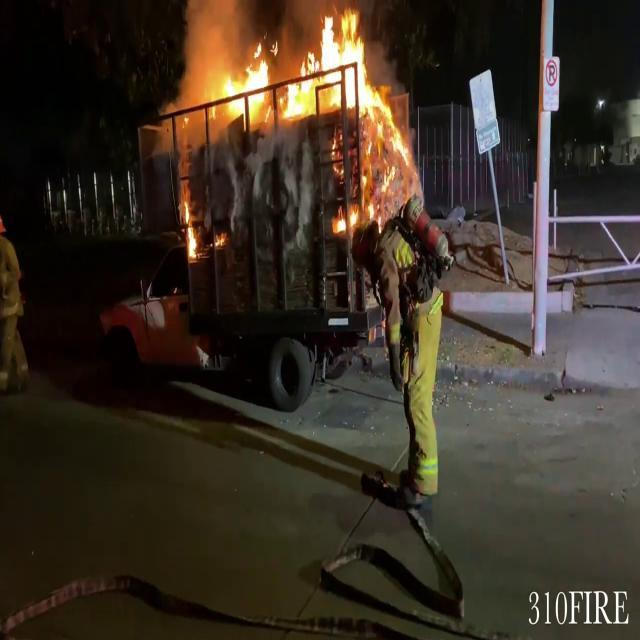Fire: (291, 0, 418, 204), (214, 23, 290, 117), (180, 196, 204, 264)
